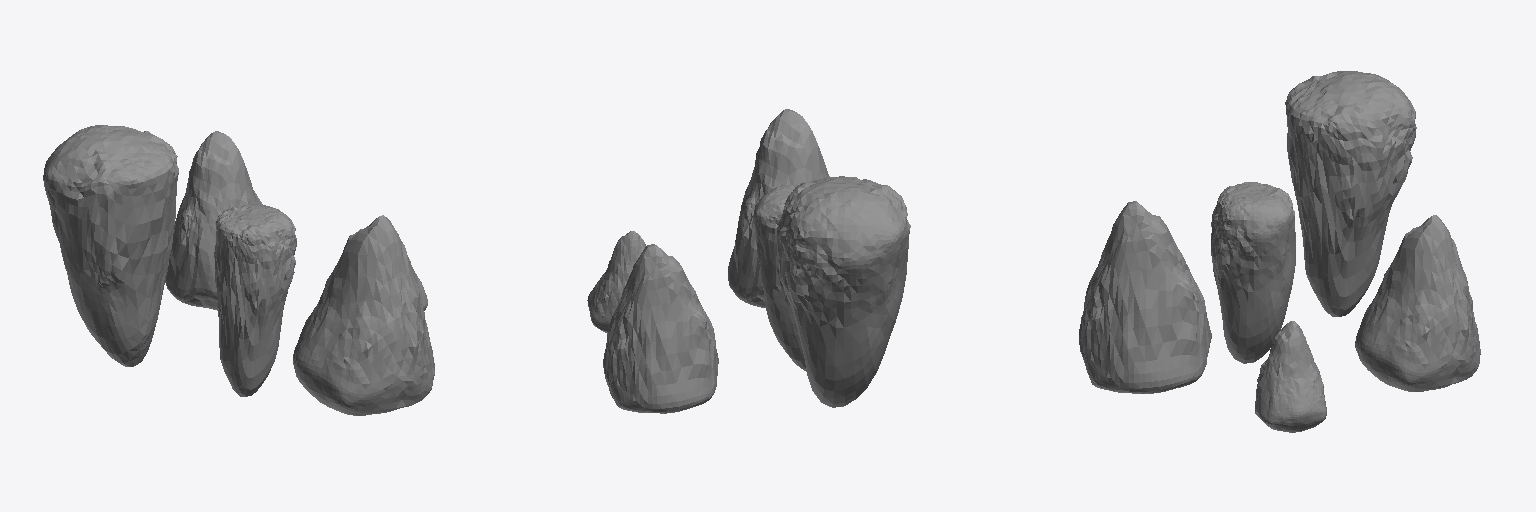
File: rocks_01_model.obj
3 views of the same model, side by side, from view 1: azimuth 30°, elevation 25°; view 2: azimuth 150°, elevation 25°; view 3: azimuth 270°, elevation 25° (orthographic).
Parts seen in each view (by area): view 1: rock_05, rock_01, rock_02, rock_03; view 2: rock_05, rock_03, rock_01, rock_02, rock_04; view 3: rock_05, rock_01, rock_03, rock_02, rock_04.
Boxes of the visible parts, x1=… form: rock_05: x1=43, y1=125, x2=178, y2=366; rock_01: x1=293, y1=215, x2=434, y2=415; rock_02: x1=214, y1=204, x2=296, y2=396; rock_03: x1=165, y1=131, x2=262, y2=310; rock_05: x1=777, y1=176, x2=910, y2=407; rock_03: x1=603, y1=244, x2=718, y2=413; rock_01: x1=728, y1=109, x2=829, y2=307; rock_02: x1=753, y1=184, x2=806, y2=371; rock_04: x1=587, y1=231, x2=645, y2=333; rock_05: x1=1285, y1=71, x2=1416, y2=316; rock_01: x1=1079, y1=201, x2=1211, y2=393; rock_03: x1=1355, y1=215, x2=1480, y2=391; rock_02: x1=1211, y1=182, x2=1295, y2=363; rock_04: x1=1255, y1=321, x2=1326, y2=432.
Bounding box in the file's own units: 497 × 336 × 507.